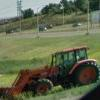Tractor: (15, 36, 97, 94)
